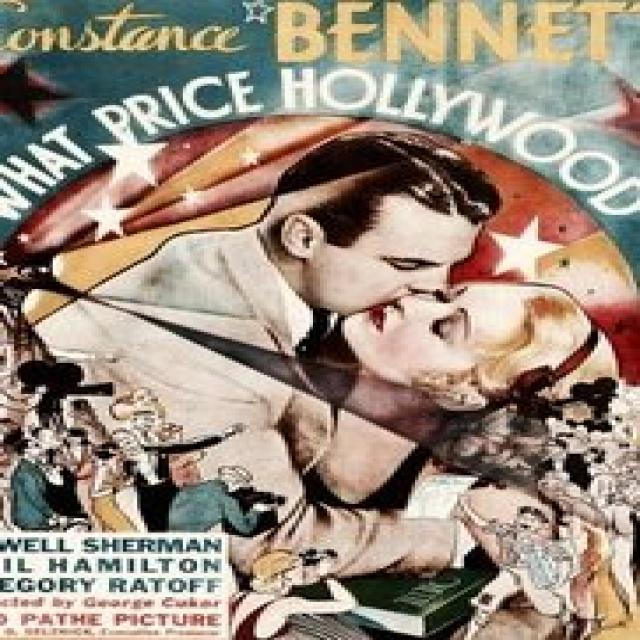movie-judul: (0, 0, 640, 225)
picture: (26, 140, 640, 640)
